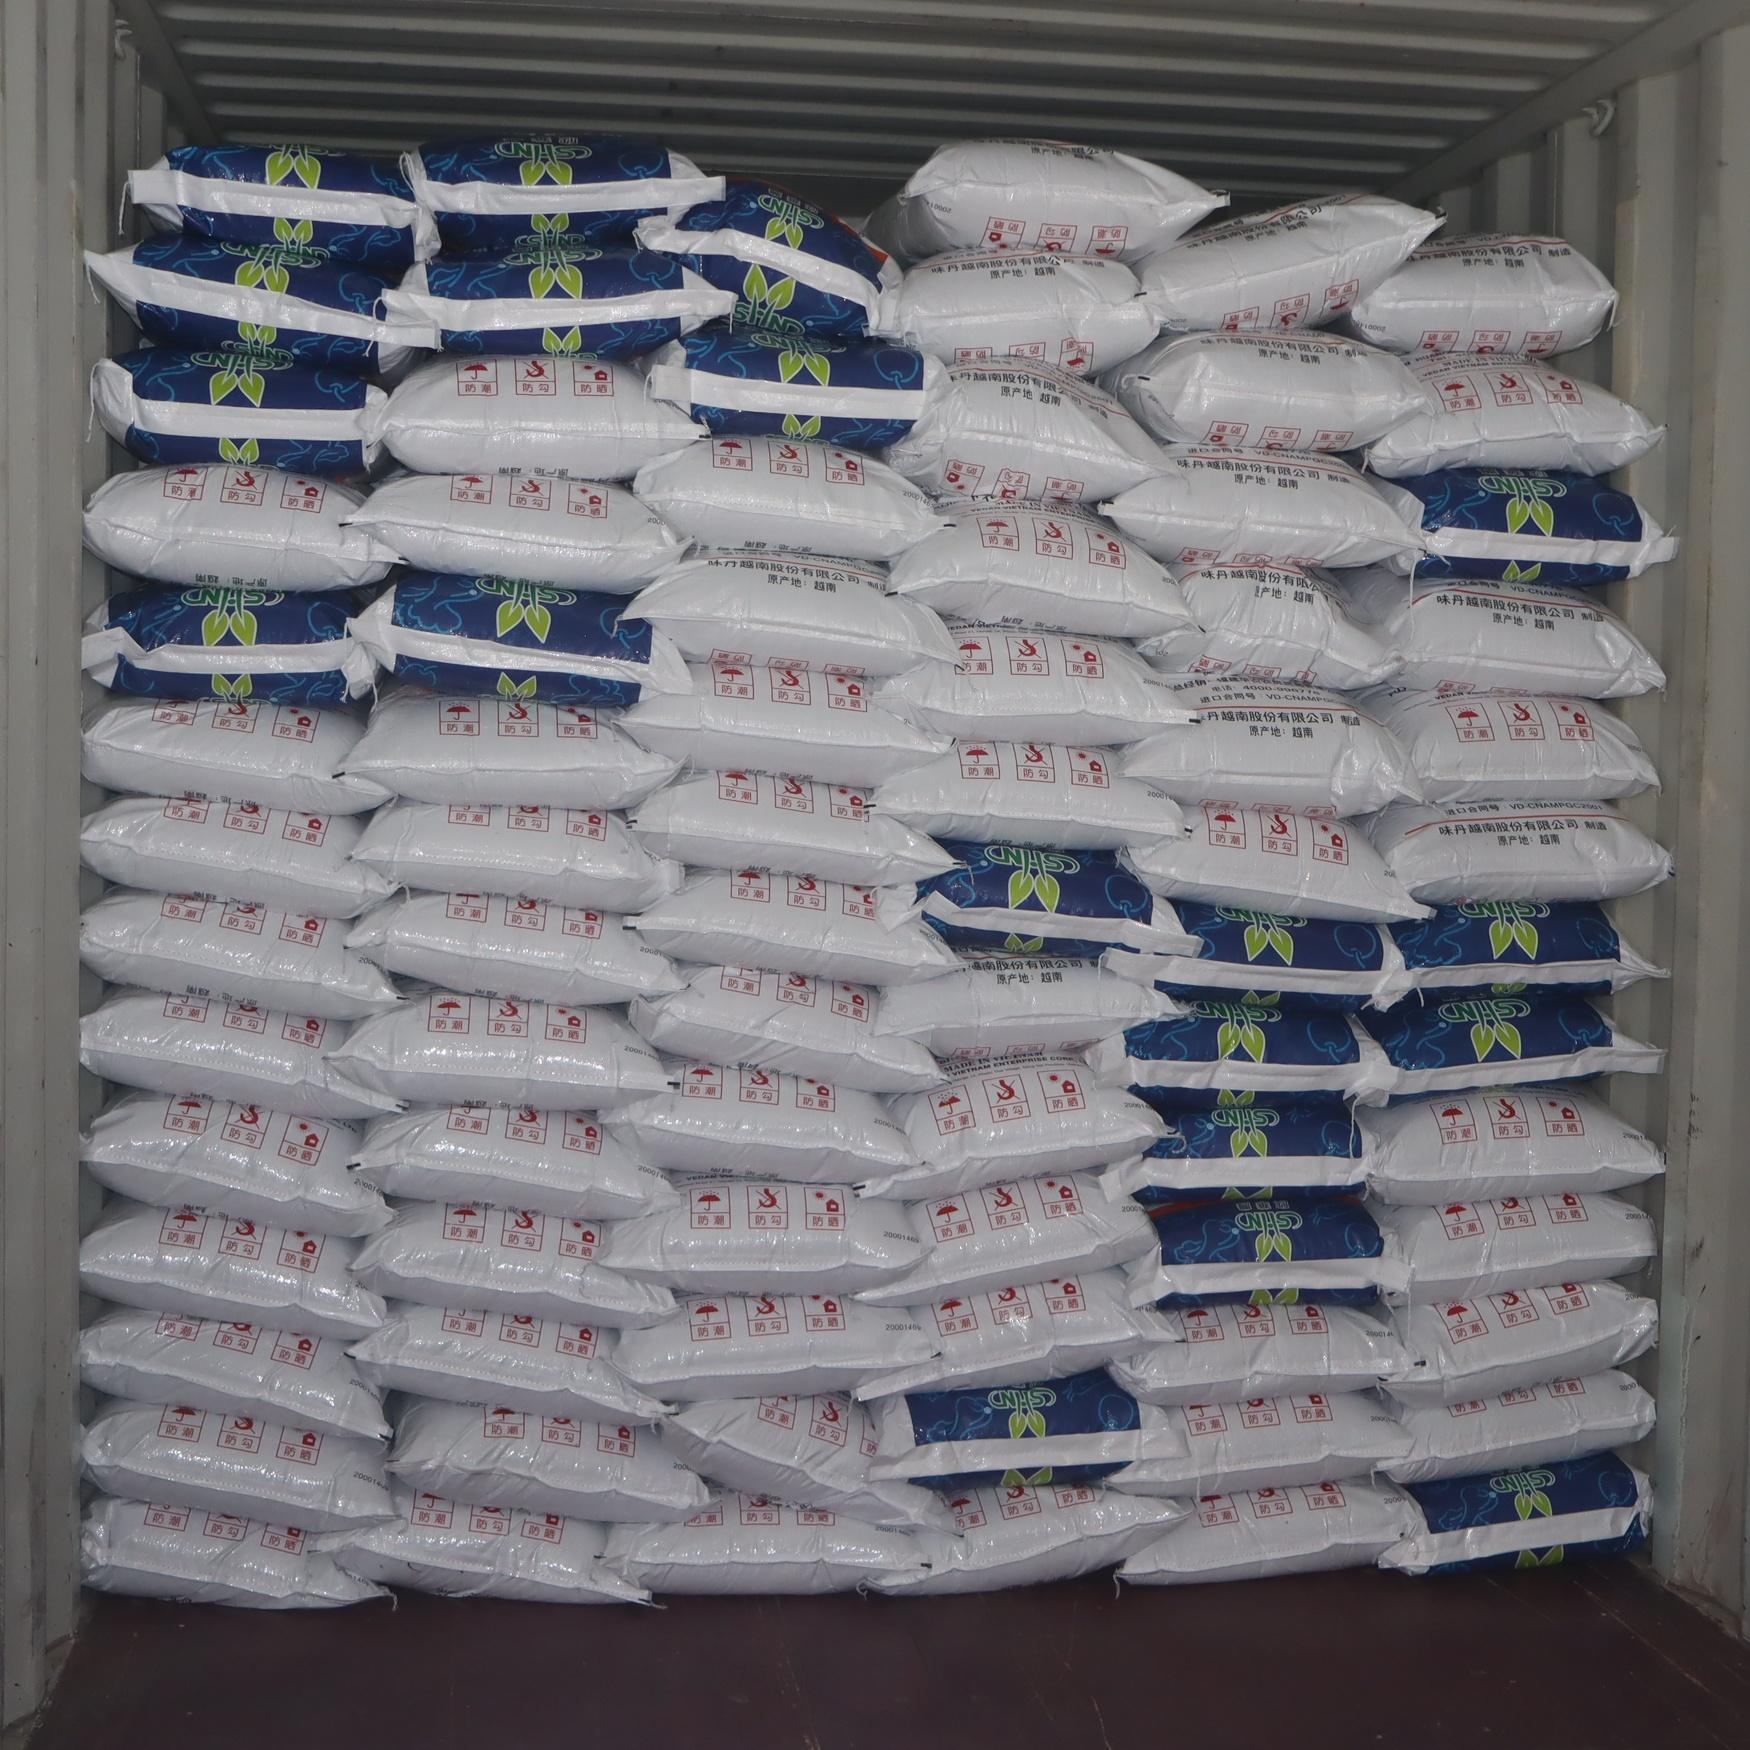sack: (87, 234, 436, 369), (351, 571, 692, 707), (82, 1091, 389, 1237), (869, 139, 1224, 264), (636, 179, 902, 340), (1340, 566, 1663, 697), (1135, 194, 1441, 332), (345, 471, 691, 593), (378, 353, 707, 481), (82, 1200, 386, 1338), (854, 1269, 1176, 1399), (889, 502, 1196, 638), (128, 144, 437, 279), (865, 1058, 1163, 1197), (82, 888, 397, 1019), (386, 239, 731, 359), (82, 990, 401, 1119), (625, 660, 950, 785), (83, 1401, 393, 1532), (1122, 679, 1418, 816), (356, 1202, 675, 1329), (343, 687, 678, 808), (630, 551, 954, 675), (332, 989, 667, 1107), (317, 1482, 647, 1603), (83, 465, 396, 591), (80, 1308, 388, 1436), (659, 1393, 950, 1527), (349, 1301, 670, 1423), (1098, 332, 1431, 449), (877, 623, 1199, 744), (1099, 446, 1421, 566), (886, 362, 1167, 500), (388, 1401, 708, 1521), (646, 321, 946, 449), (631, 966, 937, 1091), (91, 348, 385, 478), (82, 796, 394, 918), (402, 135, 723, 253), (631, 439, 947, 559), (859, 1175, 1152, 1303), (631, 869, 957, 984), (1367, 353, 1663, 478), (628, 771, 958, 883), (609, 1062, 917, 1183), (1122, 801, 1429, 921), (348, 893, 681, 1003), (607, 1175, 921, 1292), (1085, 997, 1394, 1115), (353, 800, 683, 910), (351, 1106, 675, 1218), (873, 1372, 1187, 1486), (873, 250, 1159, 375), (1377, 466, 1679, 583), (918, 845, 1204, 968), (83, 700, 393, 814), (617, 1292, 937, 1401), (1369, 1192, 1655, 1312), (1361, 1090, 1663, 1204), (873, 1486, 1189, 1595), (875, 737, 1186, 848), (82, 588, 377, 704), (1391, 1280, 1657, 1407), (82, 1497, 386, 1607), (1378, 1452, 1649, 1574), (1111, 1298, 1413, 1405), (1139, 562, 1396, 689), (1370, 687, 1655, 801), (606, 1492, 926, 1593), (1127, 1192, 1409, 1306), (1349, 234, 1615, 354), (1109, 1391, 1410, 1495), (1119, 1481, 1421, 1583), (1120, 901, 1409, 1008), (1365, 801, 1671, 902), (1386, 1370, 1655, 1482), (1362, 997, 1662, 1095), (877, 958, 1181, 1054), (1099, 1104, 1364, 1207), (1389, 901, 1665, 990)
